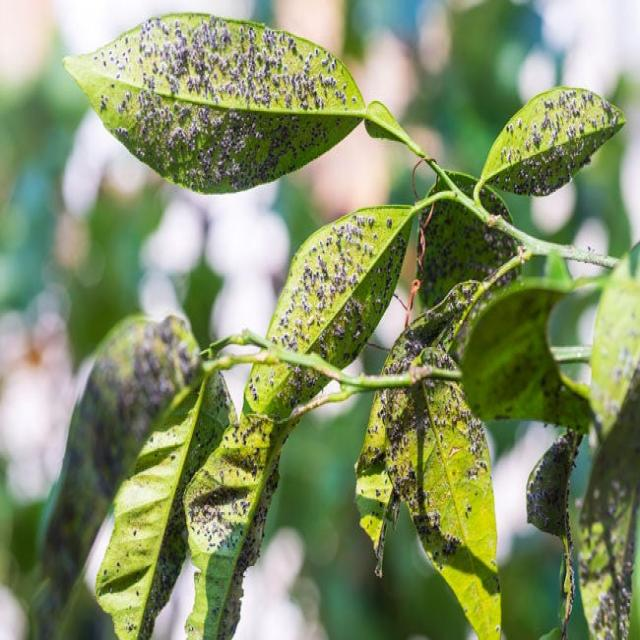Aphid-Grouped-: (110, 10, 337, 197), (378, 324, 483, 536), (268, 212, 404, 368), (499, 82, 623, 195), (422, 197, 528, 295), (186, 470, 264, 562)
